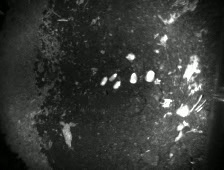corn: (144, 68, 157, 84), (127, 71, 139, 85), (124, 51, 137, 63), (98, 74, 109, 86), (111, 79, 122, 90), (107, 71, 118, 82)
